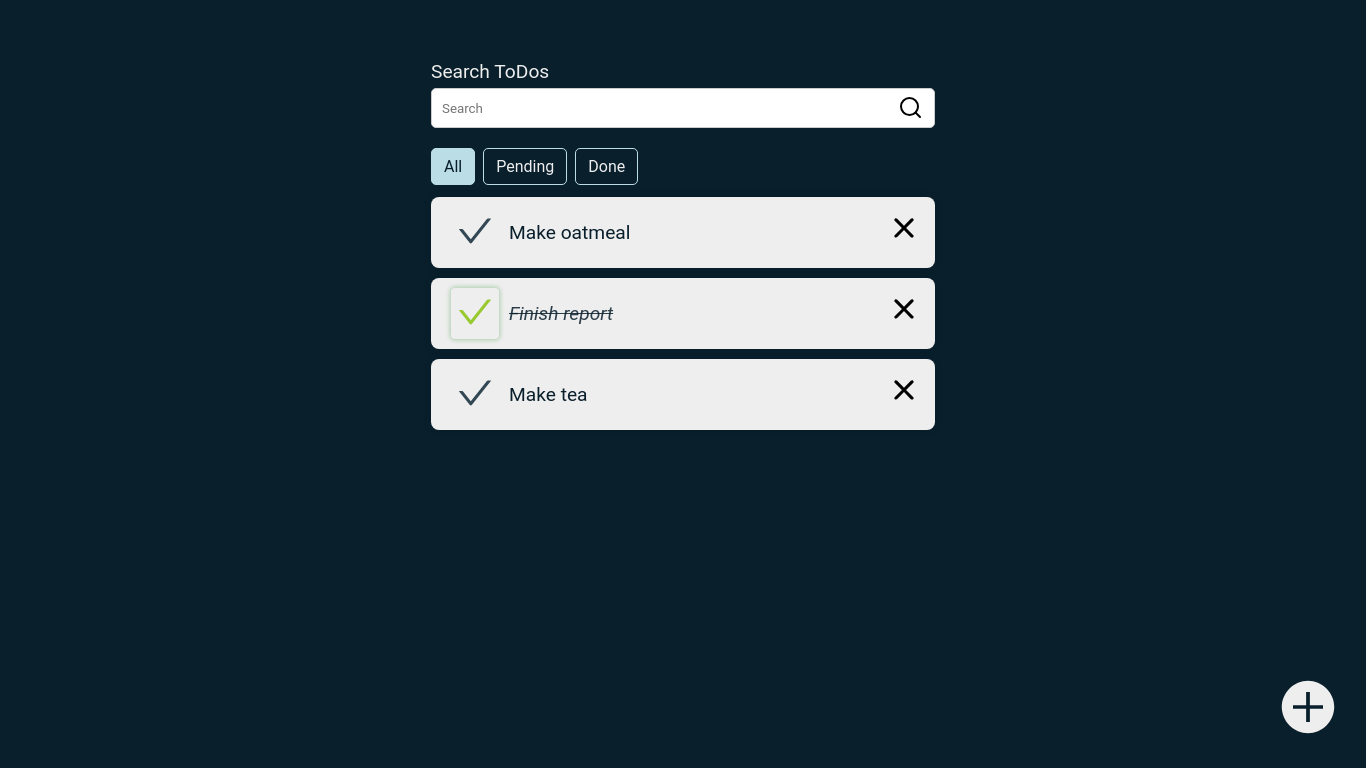
Scenario: App › keeps task persistence and status filtering correct after completion and removal
Click the tab "Pending". click: (525,166)
box: [483,148,567,185]
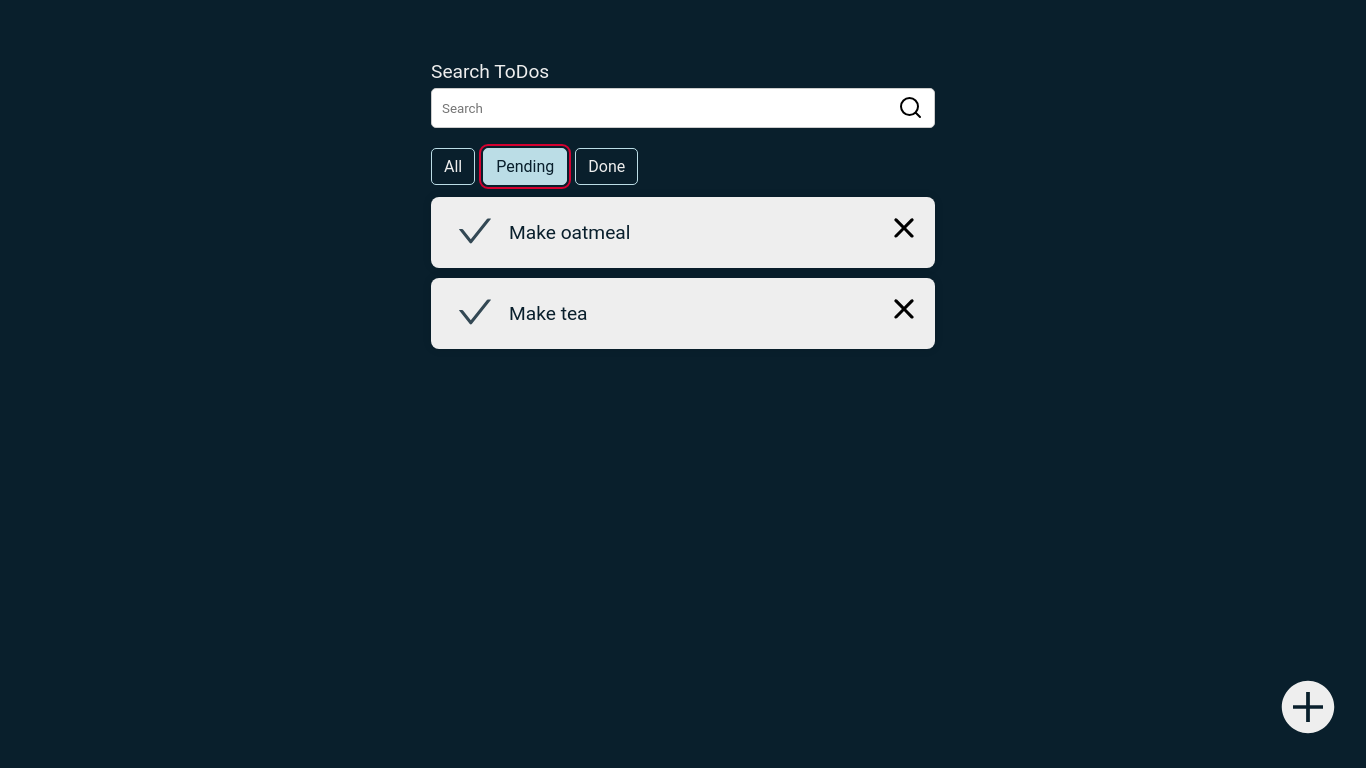
Click the button named "Mark Make oatmeal as complete". click: (475,232)
box: [451,207,499,258]
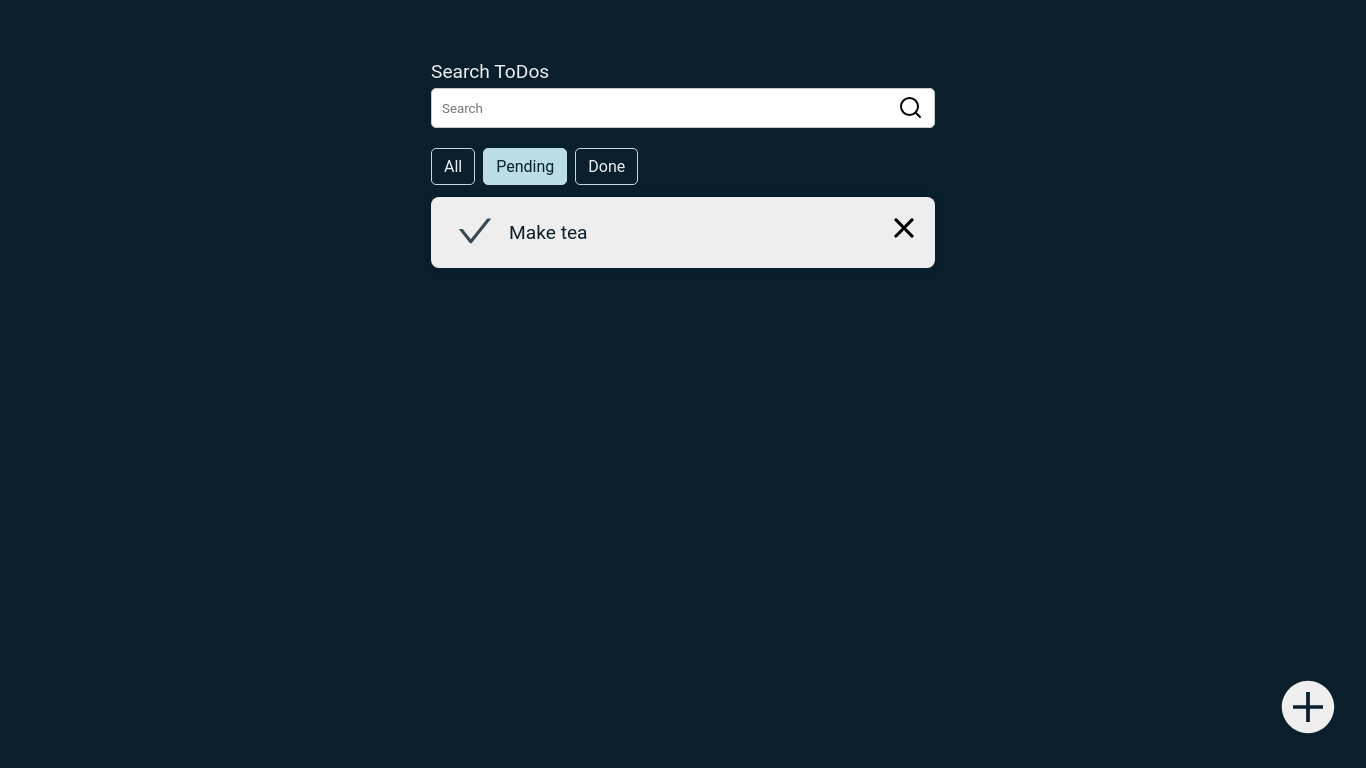
Expected: the text "Make oatmeal" is gone
Click the tab "Done". click: (607,166)
box: [575,148,638,185]
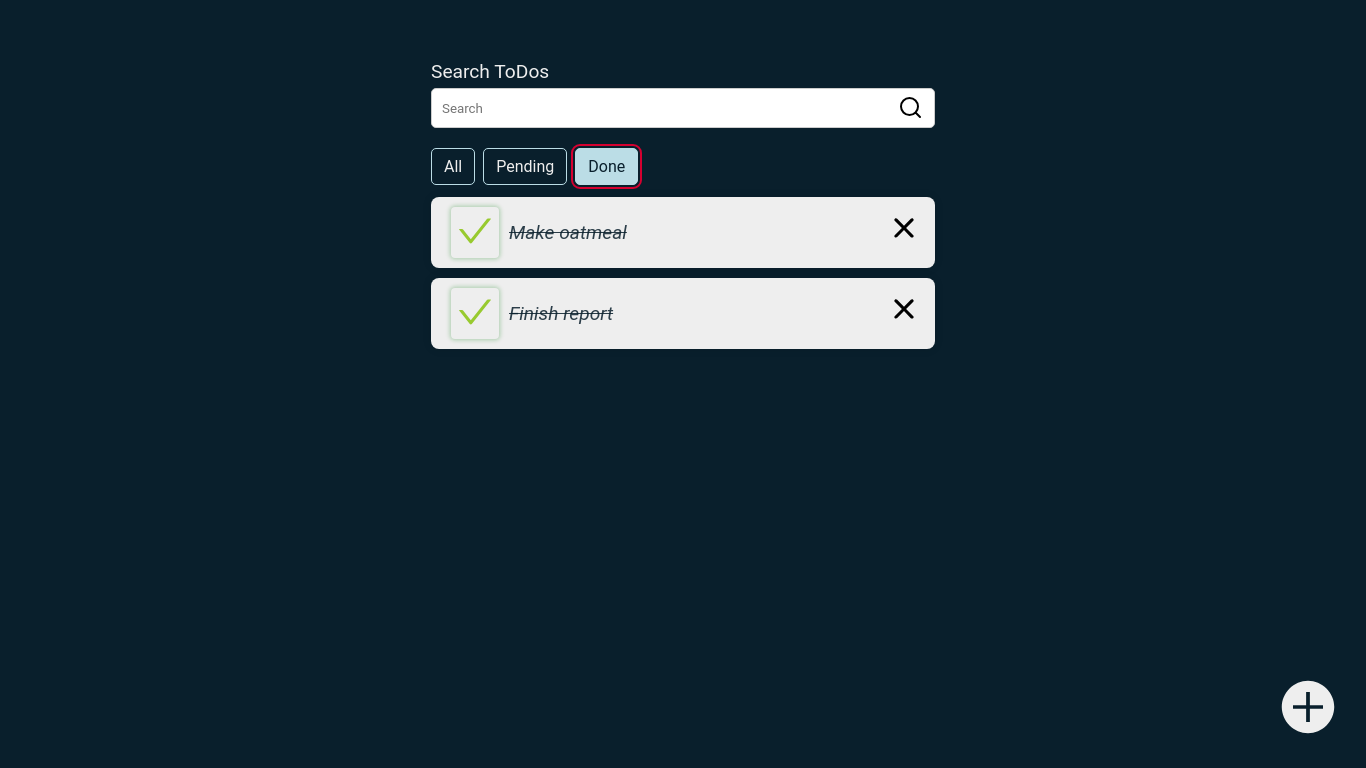
Expected: the text "Make oatmeal" is shown, [509,221,627,244]
Click the button named "Remove Make oatmeal". click: (904,230)
box: [889,213,919,246]
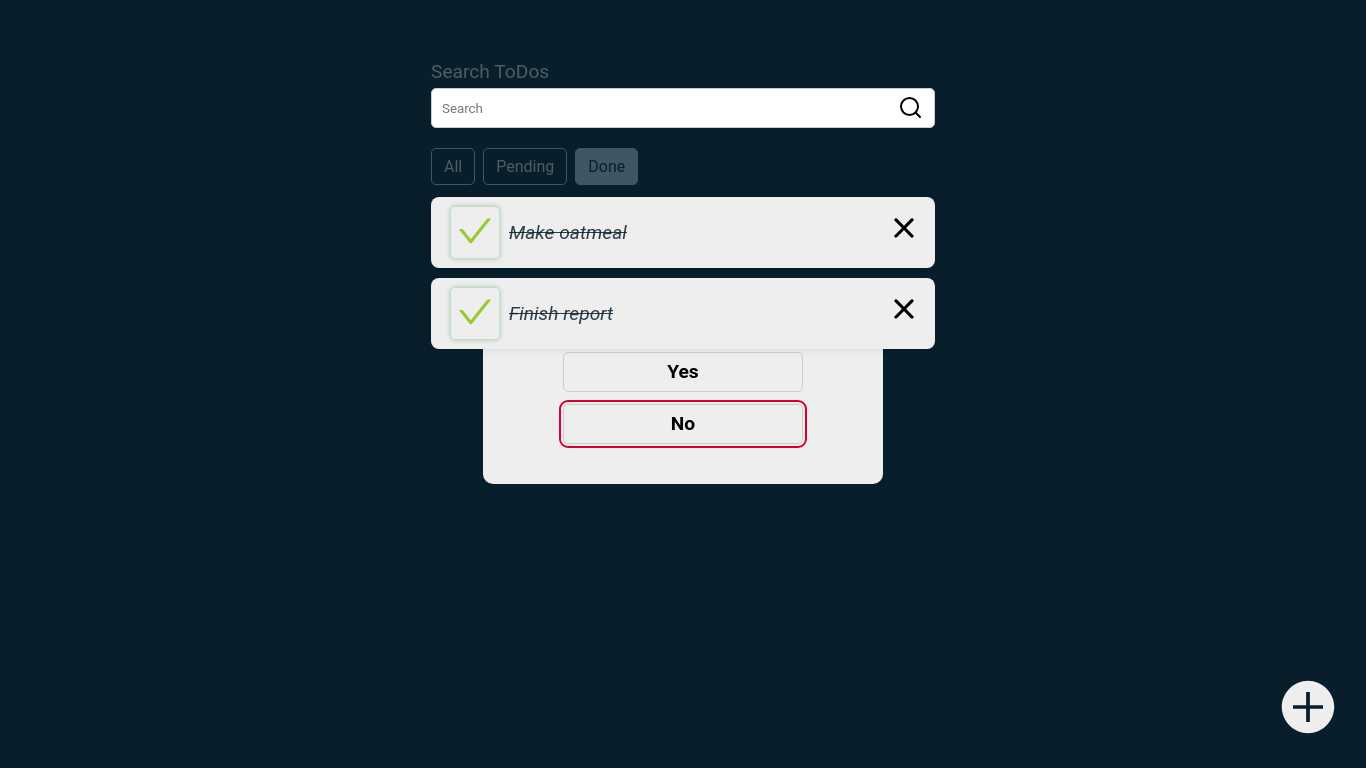
Click the button "Yes". click: (683,372)
box: [563,352,803,392]
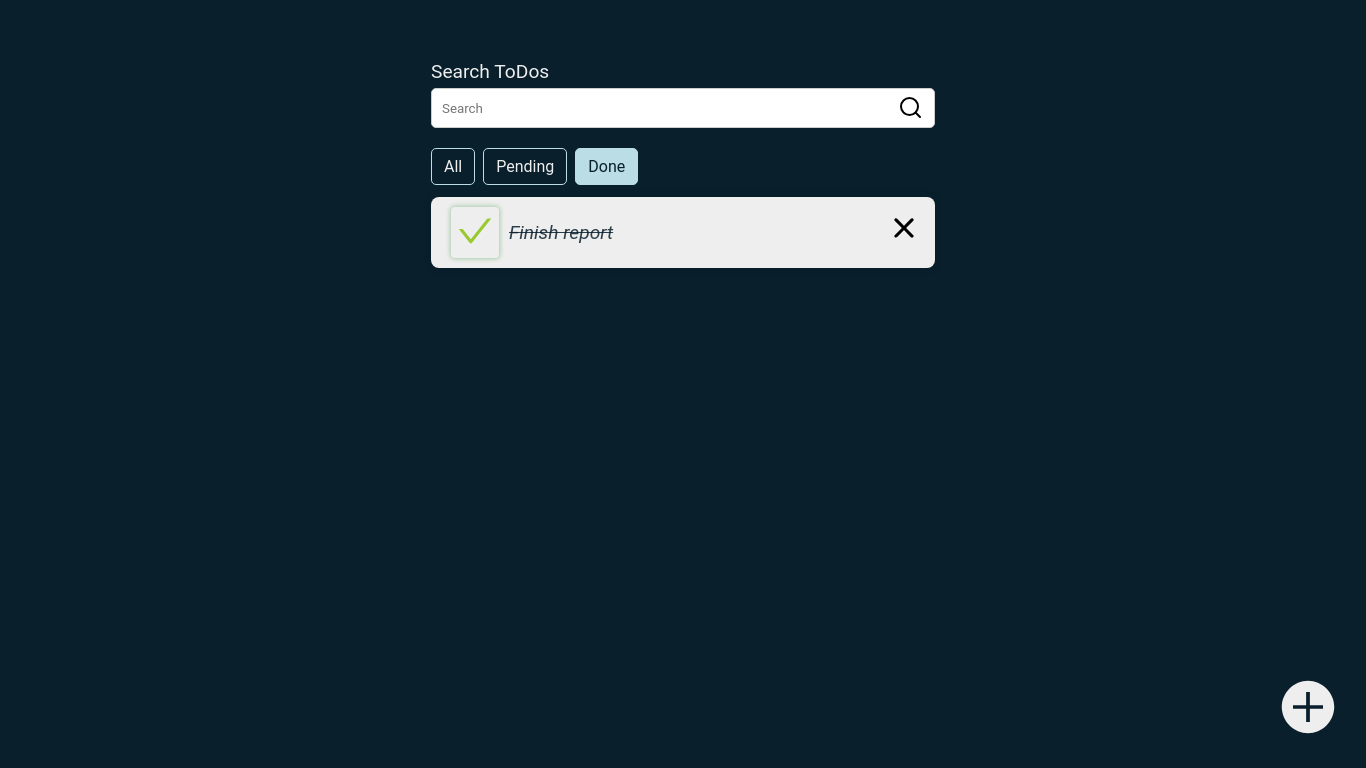
Expected: the text "Finish report" is shown, [509,221,613,244]
Expected: the text "Make oatmeal" is gone
